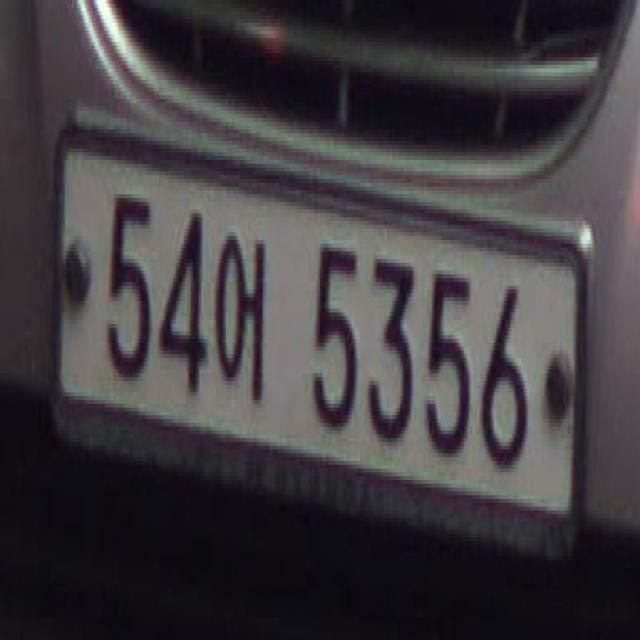3: (362, 240, 417, 469)
4: (153, 202, 215, 415)
5: (312, 221, 362, 446), (107, 172, 156, 396), (426, 255, 472, 465)
6: (472, 278, 533, 499)
eo: (211, 213, 280, 404)
license_plate: (43, 114, 590, 564)
